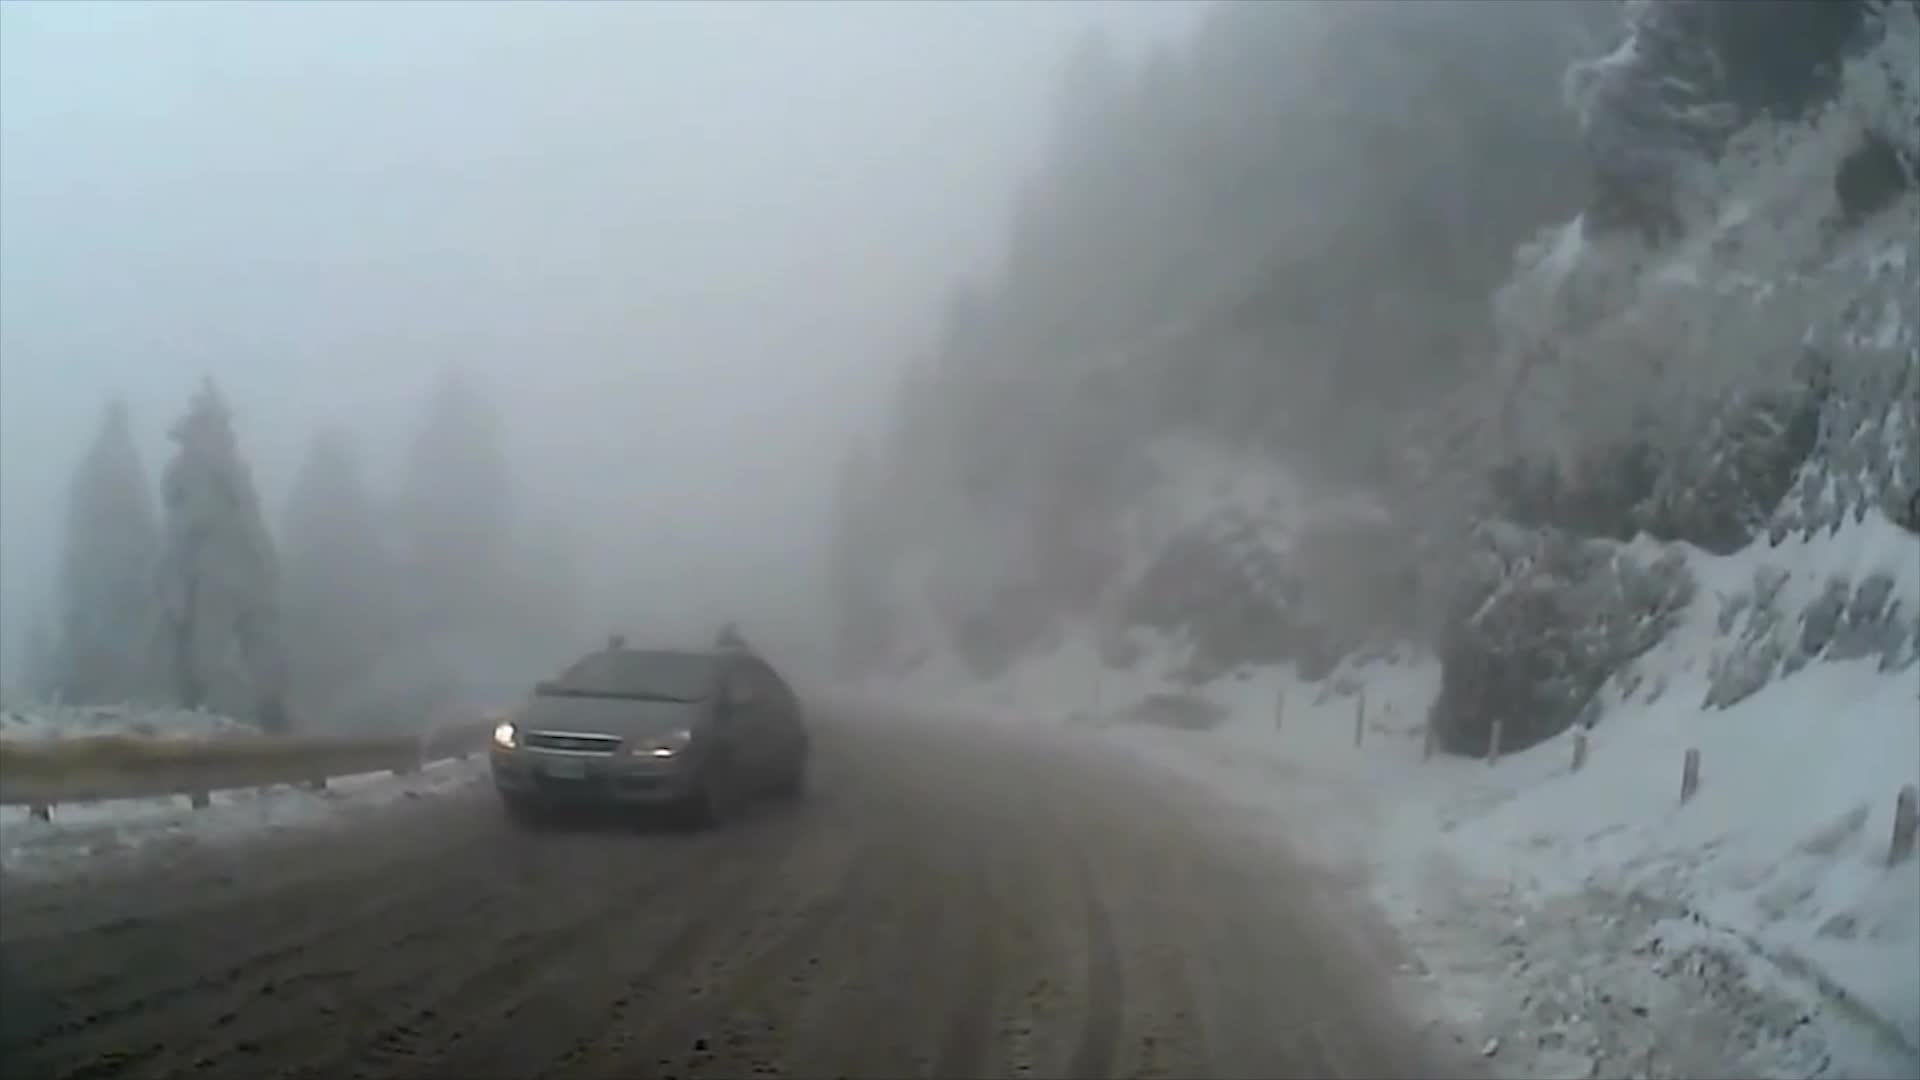vehicle: (488, 644, 806, 833)
